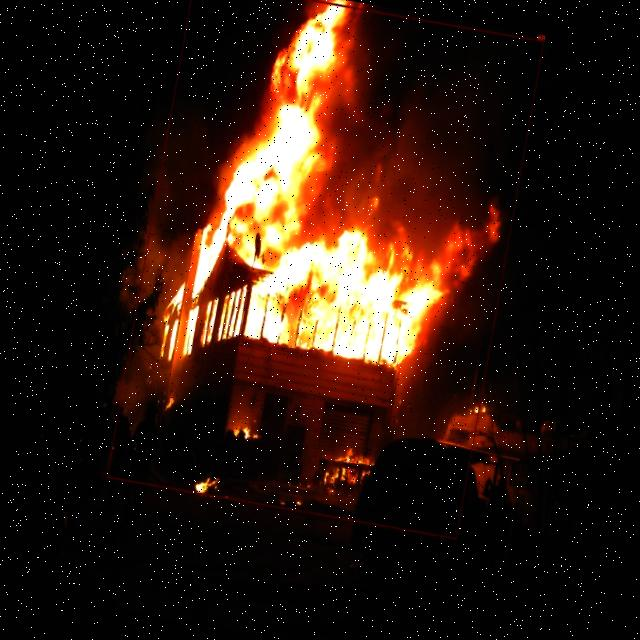fire: (106, 0, 544, 539)
